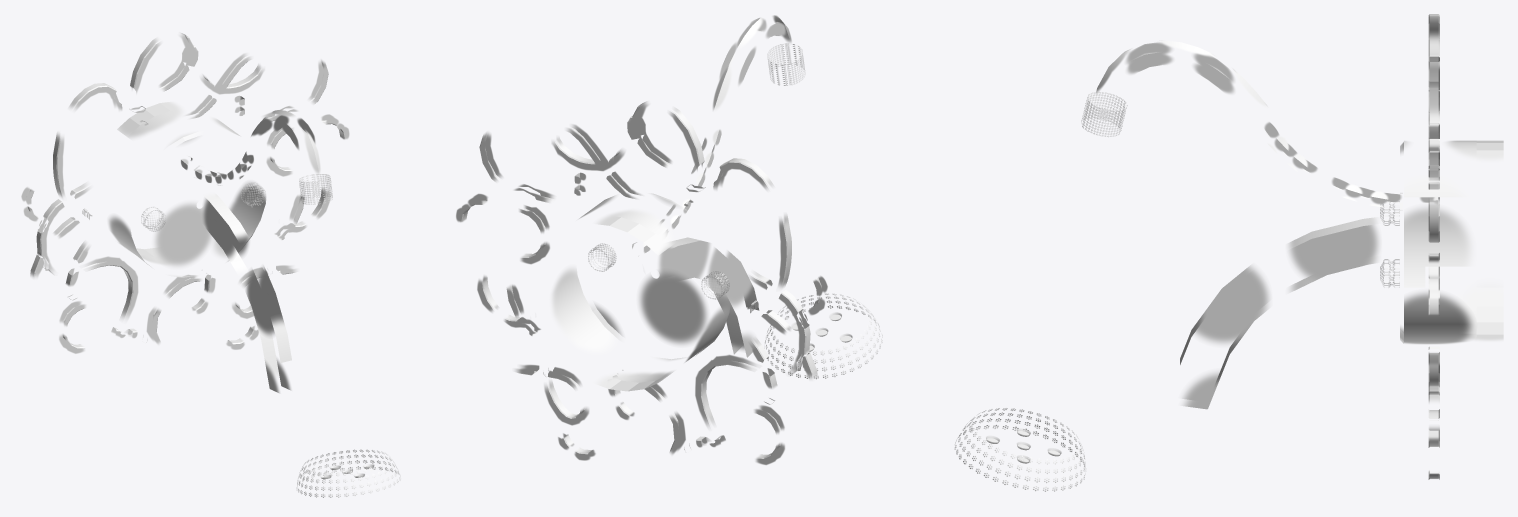
Rendered from chandelier_6a3e9d4c.glb.
3 views of the same model, side by side, from view 1: azimuth 30°, elevation 25°; view 2: azimuth 150°, elevation 25°; view 3: azimuth 270°, elevation 25° (orthographic). The views are drawn at different scales.
Visible parts, largest first — view 1: Object_3, Object_4, Object_5, Object_6; view 2: Object_3, Object_4, Object_5, Object_6; view 3: Object_4, Object_6, Object_5, Object_3.
Part boxes in pixels (left/top/right/bottom): Object_3: left=21, top=34, right=400, bottom=497; Object_4: left=29, top=45, right=324, bottom=392; Object_5: left=24, top=33, right=346, bottom=350; Object_6: left=108, top=109, right=265, bottom=277; Object_3: left=456, top=102, right=882, bottom=464; Object_4: left=483, top=115, right=819, bottom=452; Object_5: left=458, top=15, right=824, bottom=461; Object_6: left=551, top=194, right=729, bottom=382; Object_4: left=1181, top=14, right=1503, bottom=478; Object_6: left=1380, top=140, right=1476, bottom=344; Object_5: left=1081, top=14, right=1439, bottom=479; Object_3: left=954, top=15, right=1438, bottom=491.
Size of the model in its own units: 177 by 175 by 202.
Materials: 1 (1 with a texture image).
